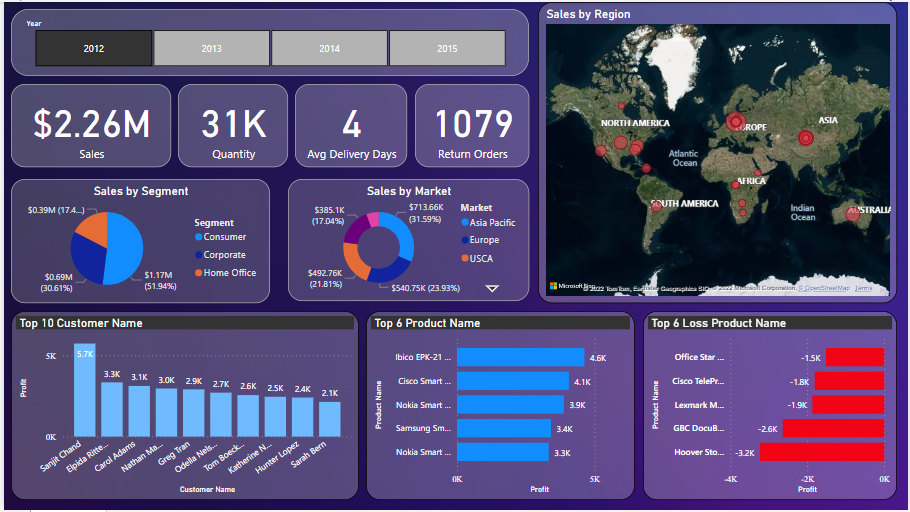

The page's visual inventory and layout, read from the dashboard file:
{"tool":"powerbi","page":{"name":"Page 1","canvas":[1280,720],"ordinal":0},"visuals":[{"type":"card","fields":{"Values":["Sum(Orders.Quantity)"]},"box":[246.6,116.2,155.9,117.6],"z":0},{"type":"card","fields":{"Values":["Avg(Orders.Delivery Days)"]},"box":[412.4,116.2,158.7,117.6],"z":1000},{"type":"slicer","fields":{"Values":["Orders.Year"]},"box":[9.9,9.9,734.2,95],"z":2000},{"type":"card","fields":{"Values":["Sum(Returns.Return Orders)"]},"box":[582.5,116.2,161.6,117.6],"z":3000},{"type":"card","fields":{"Values":["Sum(Orders.Sales)"]},"box":[9.9,116.2,226.8,117.6],"z":4000},{"type":"map","fields":{"Size":["Sum(Orders.Sales)"],"Category":["Orders.Region","Orders.Country"]},"box":[756.9,0,508.8,426.6],"z":5000},{"type":"barChart","title":"Top 6 Product Name","fields":{"Y":["Sum(Orders.Profit)"],"Category":["Orders.Product Name"]},"box":[513.1,438,381.3,267.9],"z":6000},{"type":"barChart","title":"Top 6 Loss Product Name","fields":{"Y":["Sum(Orders.Profit)"],"Category":["Orders.Product Name"]},"box":[905.7,438,360,267.9],"z":6001},{"type":"pieChart","fields":{"Category":["Orders.Segment"],"Y":["Sum(Orders.Sales)"]},"box":[9.9,250.9,367.1,175.7],"z":6002},{"type":"donutChart","fields":{"Y":["Sum(Orders.Sales)"],"Category":["Orders.Market"]},"box":[402.5,250.9,341.6,172.9],"z":6003},{"type":"columnChart","title":"Top 10 Customer Name","fields":{"Category":["Orders.Customer Name"],"Y":["Sum(Orders.Profit)"]},"box":[9.9,438,493.2,267.9],"z":6004}]}

Visuals, with their boxes in screenshot pixels (x1, y1, x2, y2), scaled from the page's 1280x720 canvas onto the 910x512 screenshot:
card - Sum(Orders.Quantity): x1=175, y1=83, x2=286, y2=166
card - Avg(Orders.Delivery Days): x1=293, y1=83, x2=406, y2=166
slicer - Orders.Year: x1=7, y1=7, x2=529, y2=75
card - Sum(Returns.Return Orders): x1=414, y1=83, x2=529, y2=166
card - Sum(Orders.Sales): x1=7, y1=83, x2=168, y2=166
map - Sum(Orders.Sales) x Orders.Region: x1=538, y1=0, x2=900, y2=303
"Top 6 Product Name" barChart: x1=365, y1=311, x2=636, y2=502
"Top 6 Loss Product Name" barChart: x1=644, y1=311, x2=900, y2=502
pieChart - Orders.Segment x Sum(Orders.Sales): x1=7, y1=178, x2=268, y2=303
donutChart - Sum(Orders.Sales) x Orders.Market: x1=286, y1=178, x2=529, y2=301
"Top 10 Customer Name" columnChart: x1=7, y1=311, x2=358, y2=502
